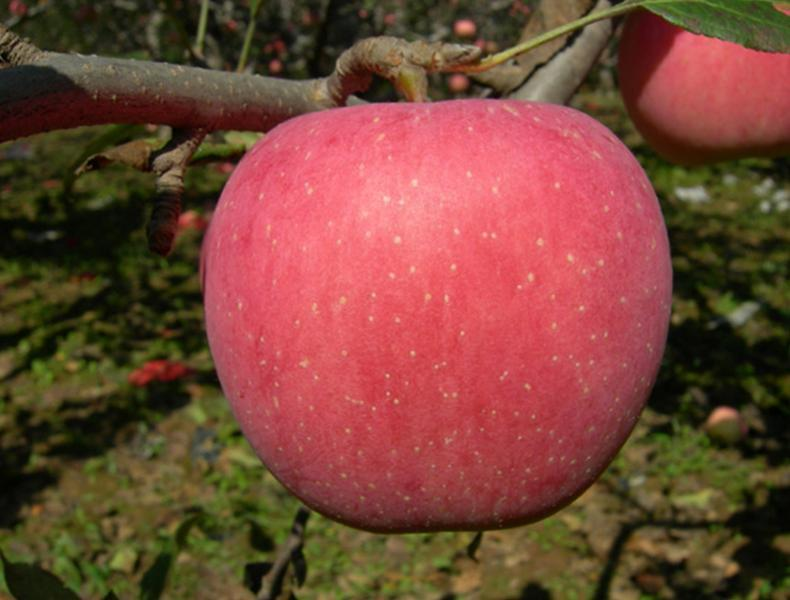apple: (206, 98, 674, 538), (618, 3, 789, 168)
